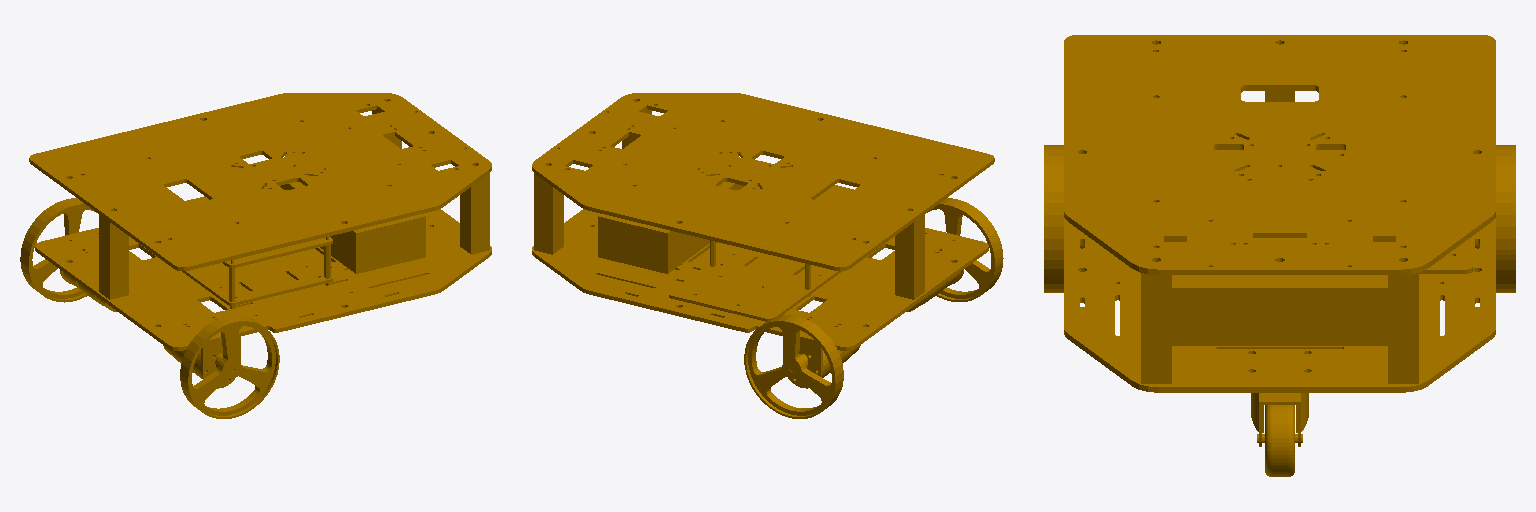
robot.urdf — mycar:
<robot name="mycar">
    <link name="base_link">
        <visual>
            <geometry>
            <!-- 你自己的三维模型文件 -->
            <mesh filename="package://pibot_description/meshes/base/apolloX_base.stl" />
            </geometry>
            <!-- xyz坐标 rpy翻滚俯仰与偏航角度(3.14=180度 1.57=90度) -->
            <origin xyz="0 0 0" rpy="0 0 0" />
            <!-- 颜色: r=red g=green b=blue a=alpha -->
            <material name="black">
                <color rgba="0.7 0.5 0 0.5" />
            </material>
        </visual>
    </link>
</robot>

--- What the picture shows (computed from the rendered views, not written in the file) ---
Views: 3 orthographic renders of the robot side by side, from view 1: azimuth 30°, elevation 25°; view 2: azimuth 150°, elevation 25°; view 3: azimuth 270°, elevation 25°.
Model mycar with 1 links and 0 joints (none), rooted at base_link, posed every joint at zero.
Links seen in each view (by area): view 1: base_link; view 2: base_link; view 3: base_link.
Boxes of the visible links, x1,y1,x2,y2 form: base_link: (20, 93, 491, 418); base_link: (532, 93, 1003, 418); base_link: (1044, 35, 1515, 476).
Size in the robot's own frame: 0.3695 by 0.305 by 0.156 metres.
1 mesh visuals loaded from 1 distinct referenced files (1 binary STL).
